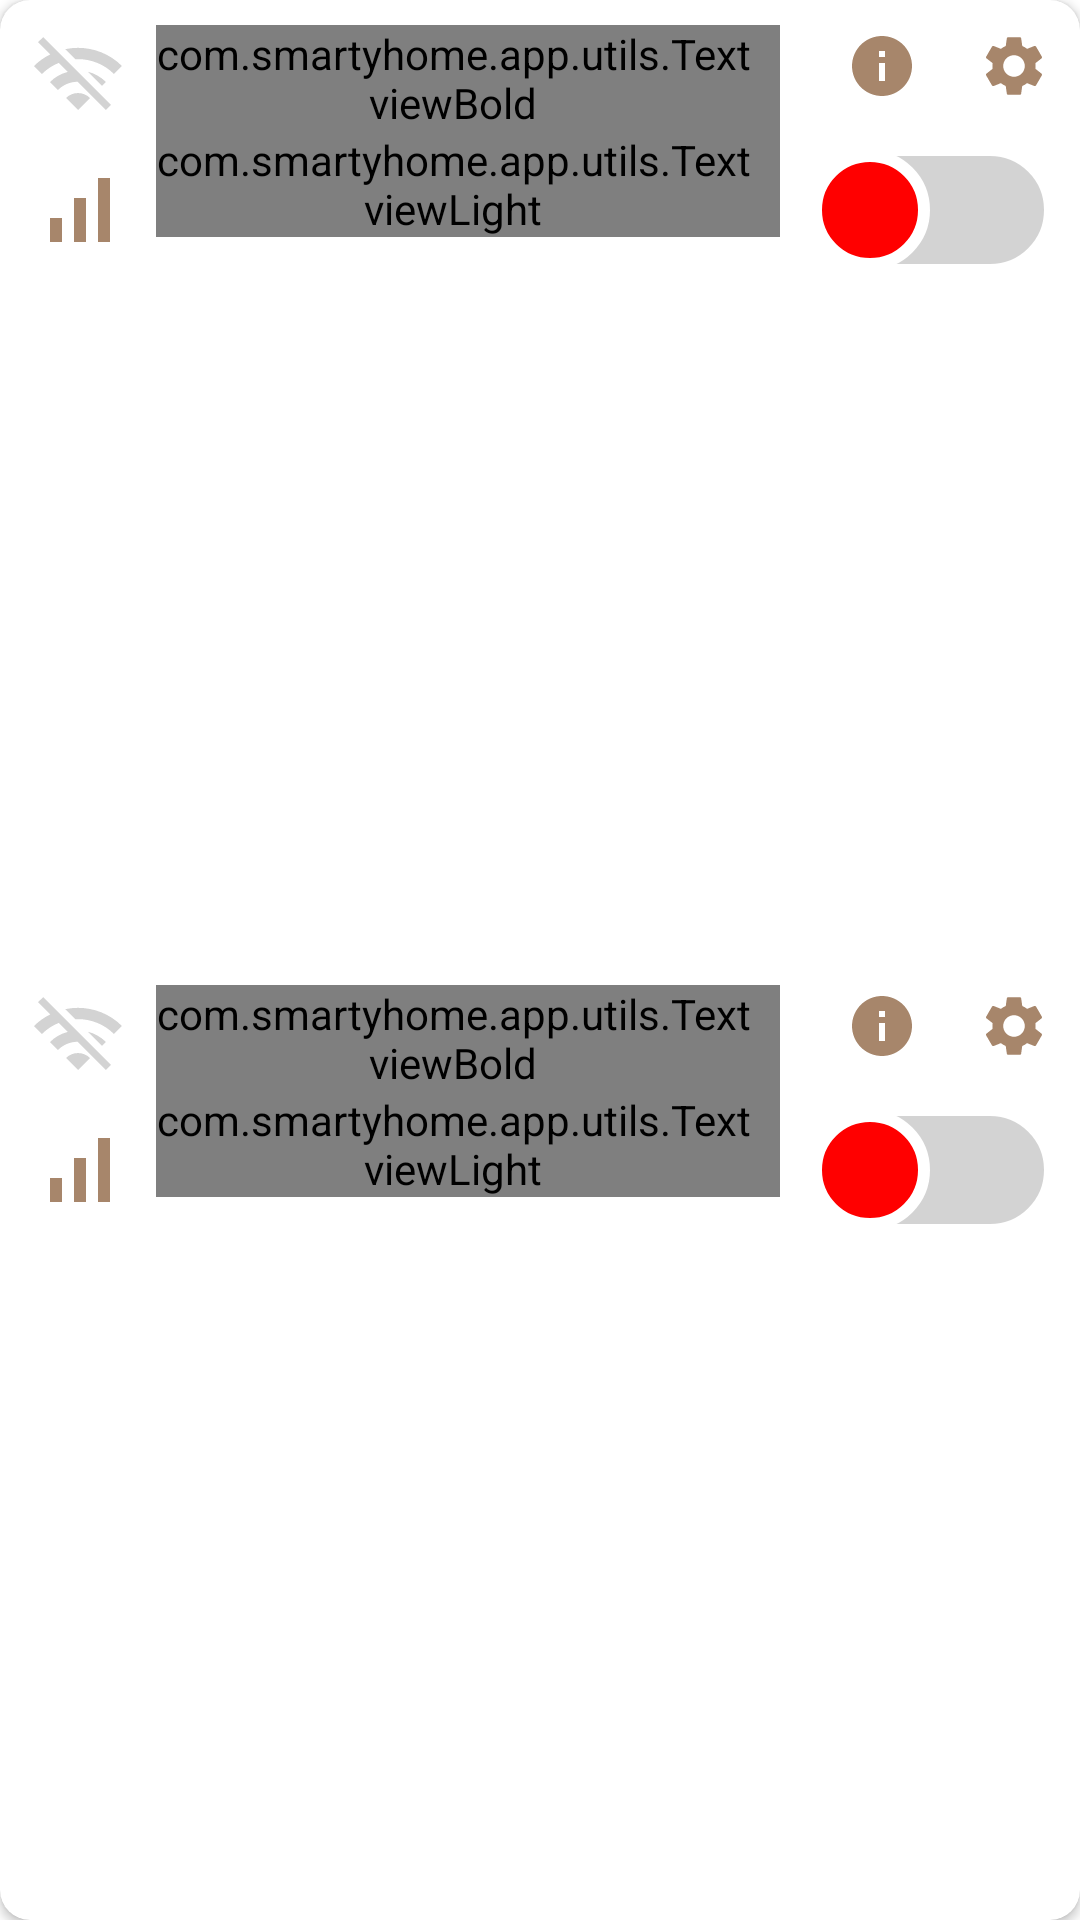

Named icons in this screenshot (1080*1920) and their bounding boxes, (x1, y1, x2, y2):
info: (852, 36, 912, 96), (852, 996, 912, 1056)
signal: (50, 178, 110, 242), (50, 1138, 110, 1202)
wifi off: (34, 37, 121, 110), (34, 997, 121, 1070)
